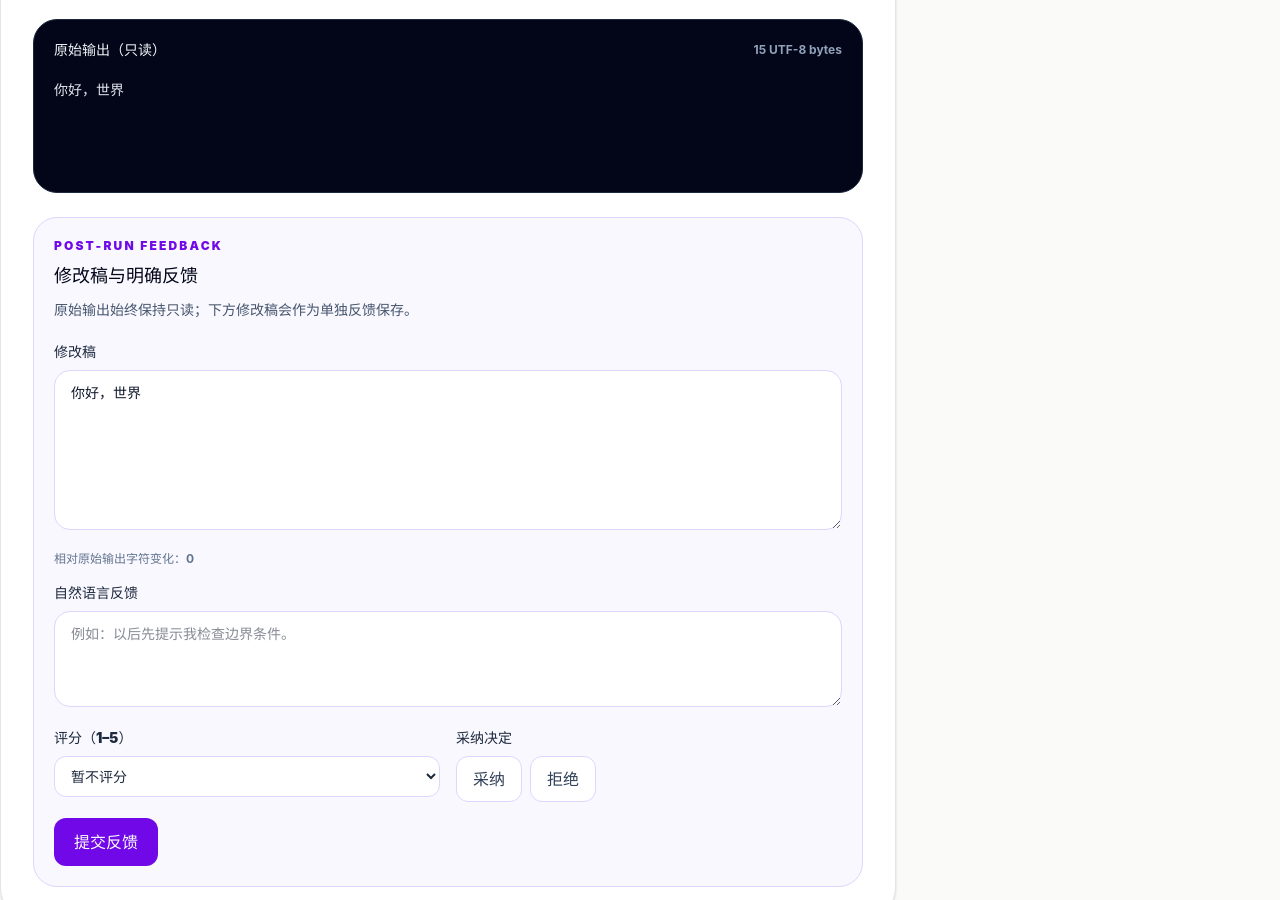
Test: Day 2 G1 owner flow › keeps the original readonly, submits explicit edited feedback, and confirms catch-up
(page scrolled)
Expected: the text named "原始输出" reads "你好，世界", [54, 81, 124, 98]
Replace the text in the text box labelled "修改稿" with "你好，修订版". click: (448, 450)
box: [54, 370, 842, 530]
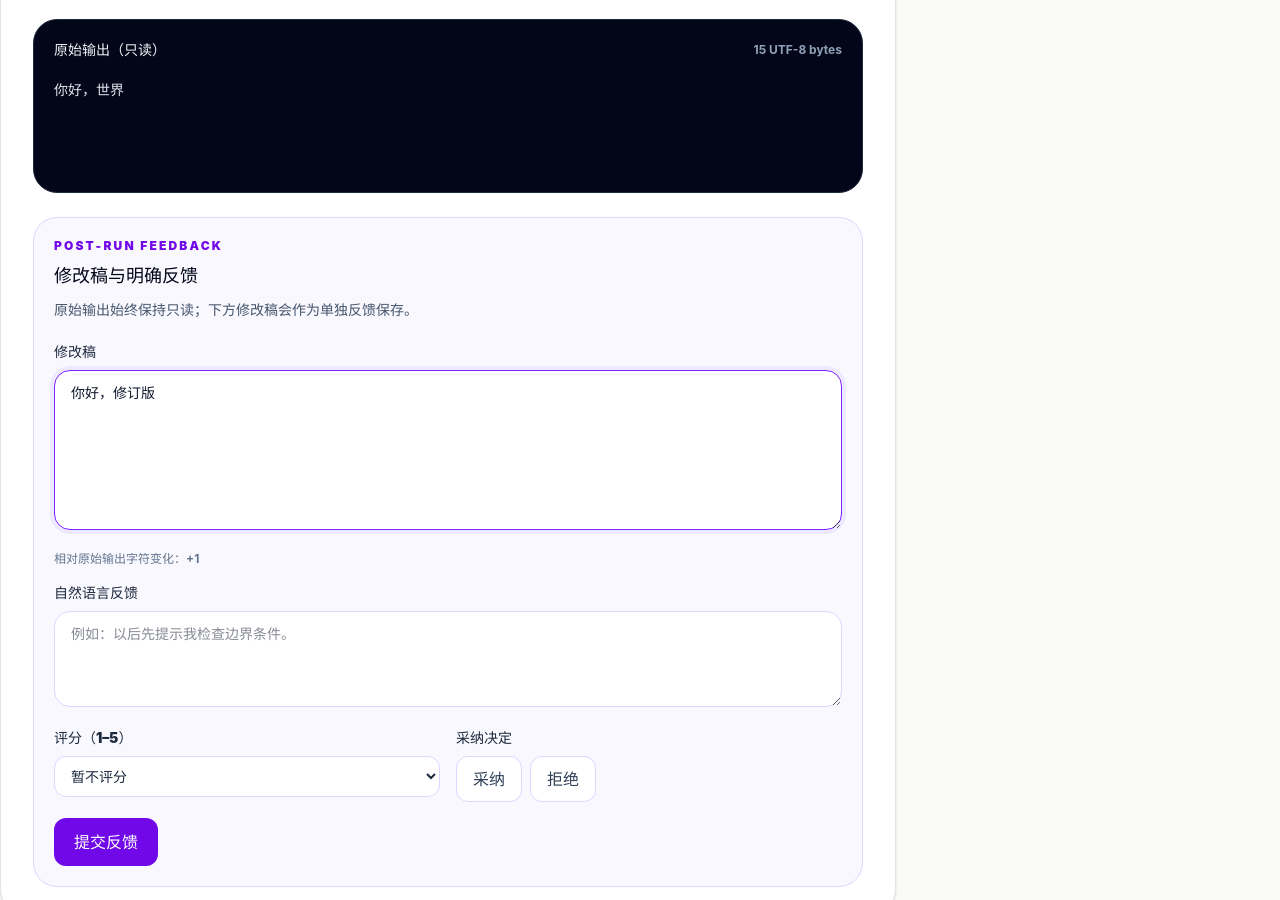
Type "以后先说明边界条件" into the text box labelled "自然语言反馈". click: (448, 659)
box: [54, 611, 842, 707]
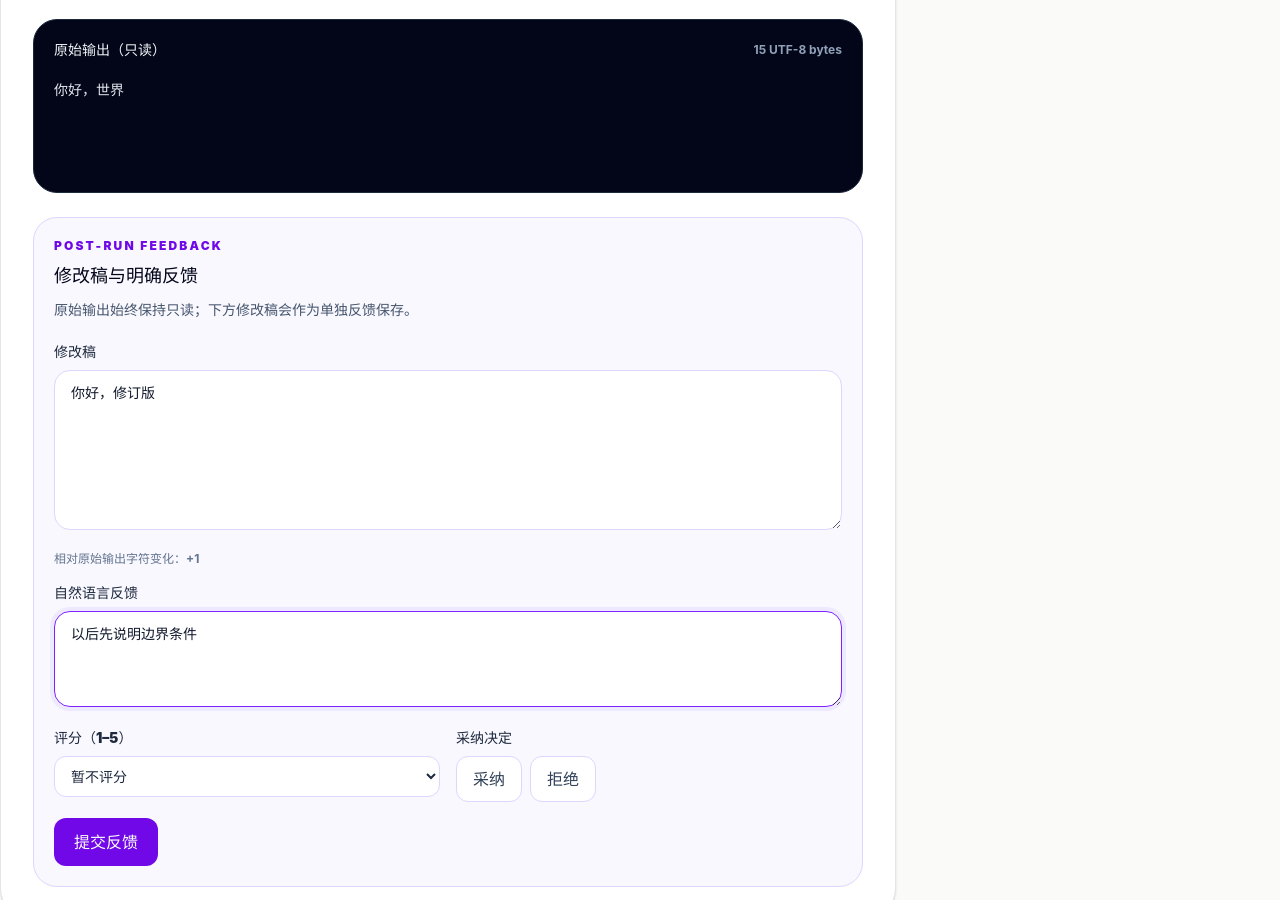
Select "5" in the dropdown labelled "评分". click: (247, 776)
box: [54, 756, 440, 797]
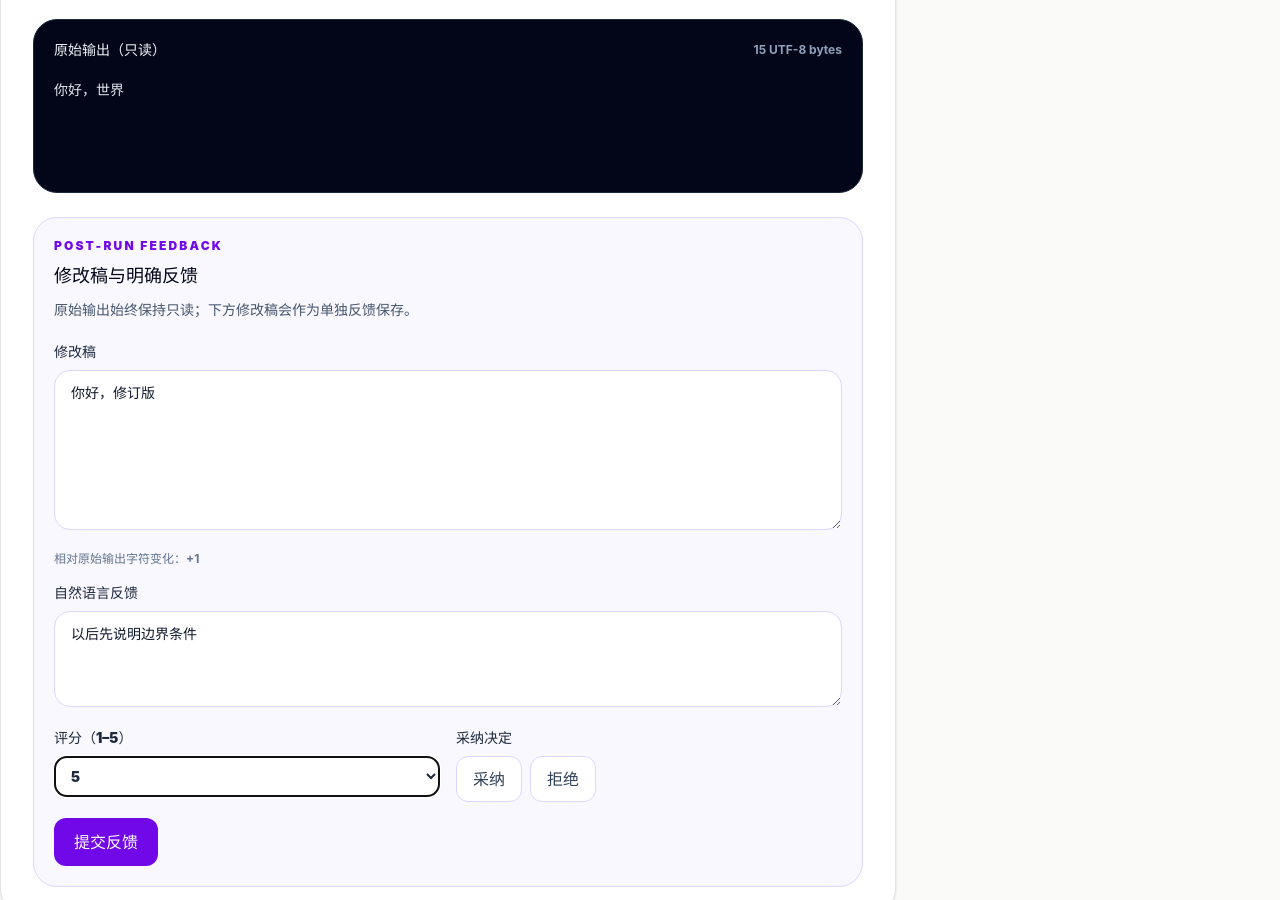
Click the button "拒绝". click: (563, 779)
box: [530, 756, 596, 802]
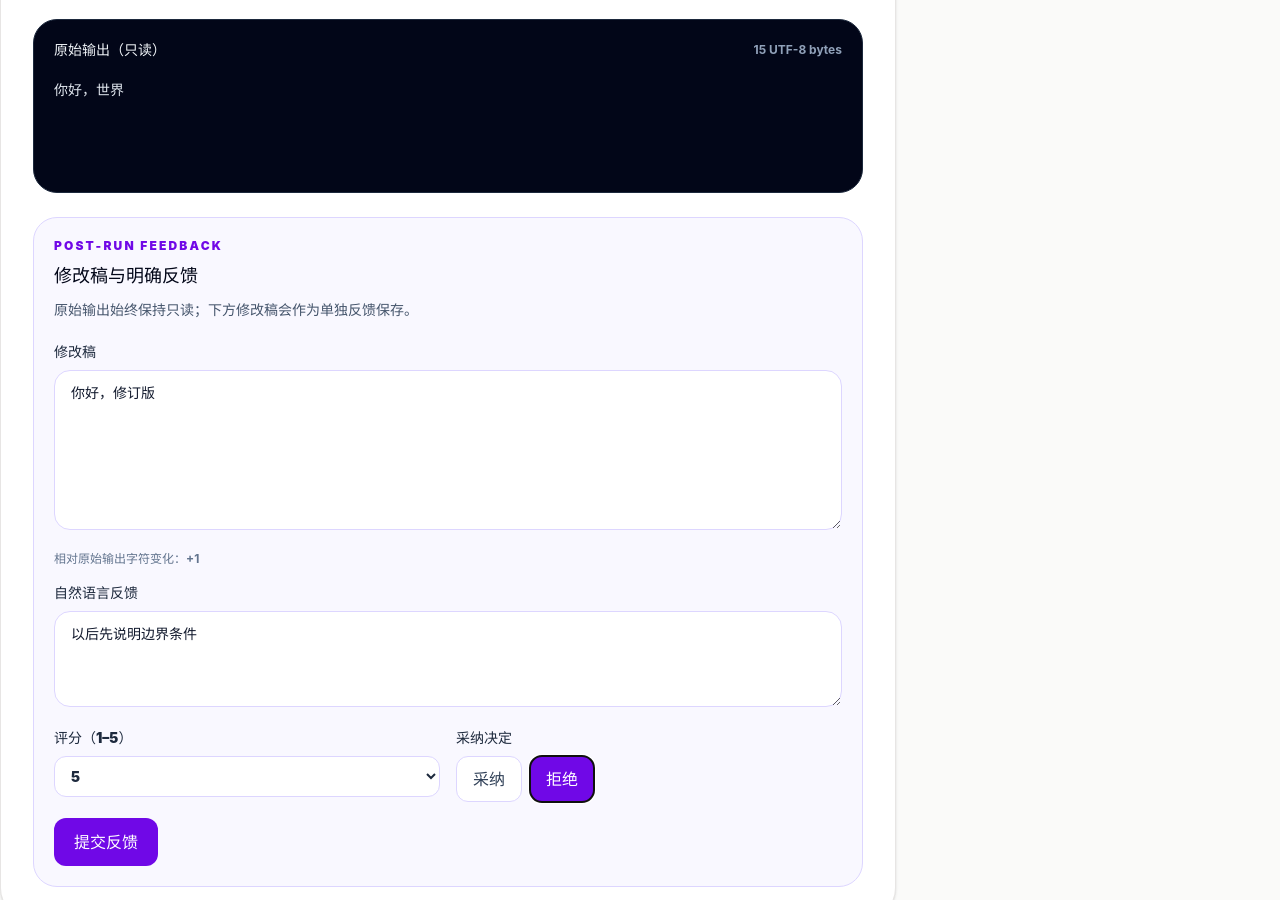
Click the button "提交反馈". click: (106, 842)
box: [54, 818, 158, 866]
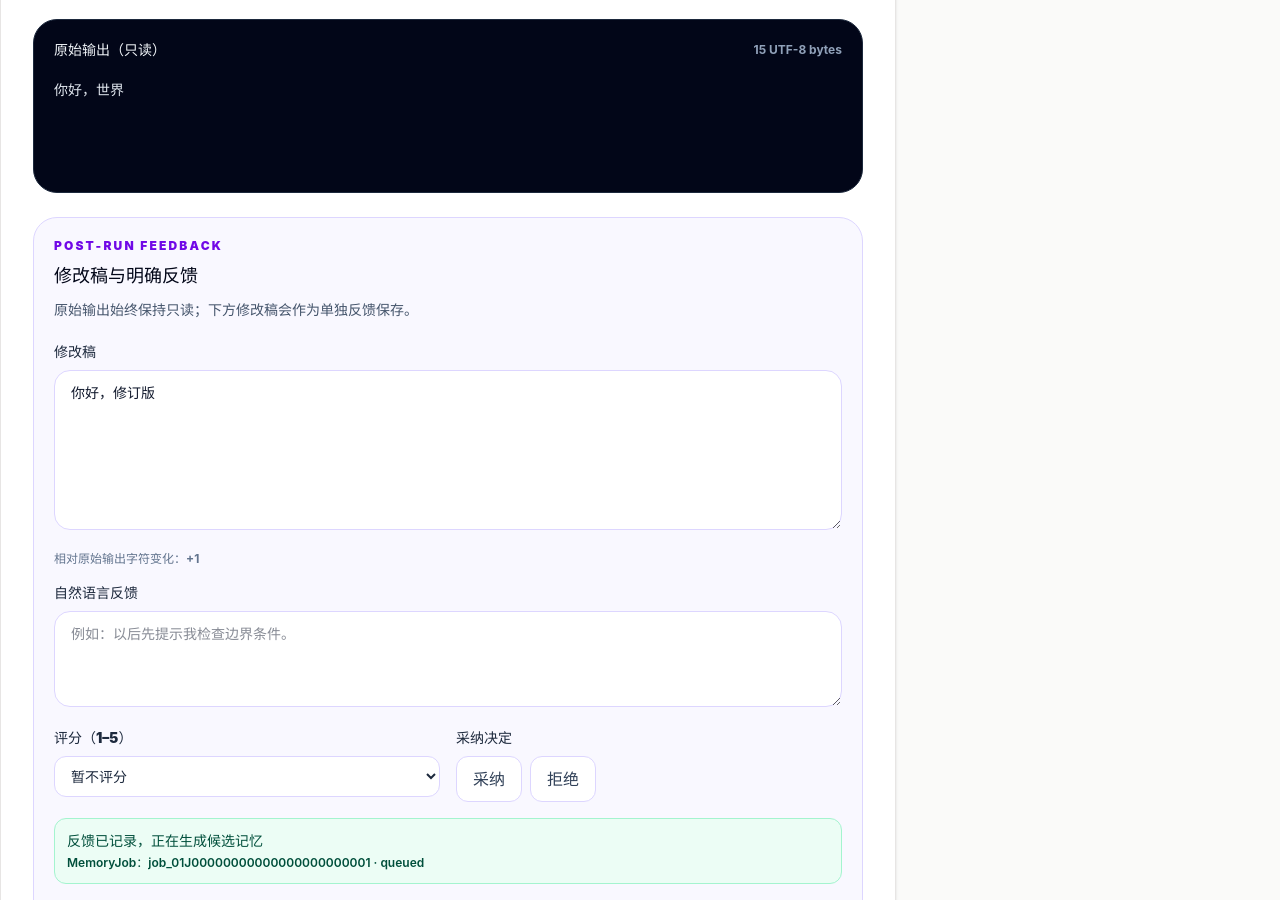
Expected: the text named "原始输出" reads "你好，世界", [54, 81, 124, 98]
Result: the text "反馈已记录，正在生成候选记忆" is shown at [67, 832, 263, 849]
